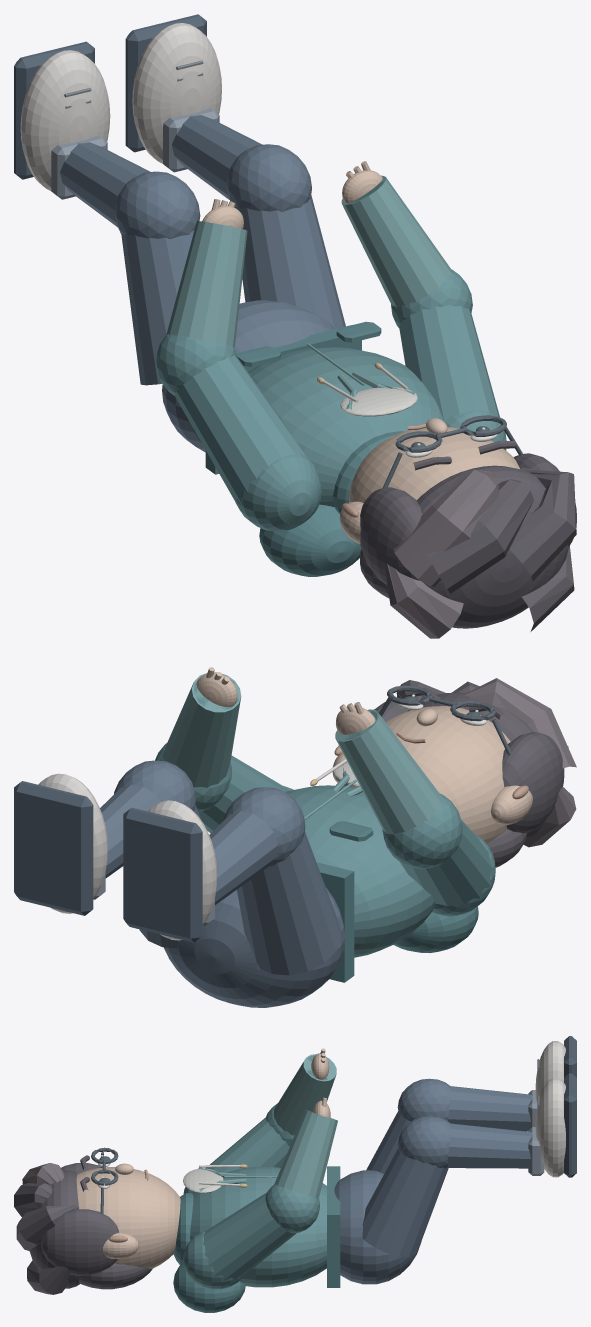
File: developer_working_0.glb
3 renders of one model, top to bottom at view 1: azimuth 30°, elevation 25°; view 2: azimuth 150°, elevation 25°; view 3: azimuth 270°, elevation 25°, orthographic. The views are drawn at different scales.
Visible parts, largest first — view 1: 0000__hoodie_main_torso, 0057__sleeve_upper, 0065__jeans_thigh, 0050__sneaker, 0069__sneaker, 0076__sleeve_upper, 0078__sleeve_forearm, 0059__sleeve_forearm, 0022__hair_crown, 0046__jeans_thigh, 0017__face_head, 0026__hair_lock_0 (+22 smaller); view 2: 0000__hoodie_main_torso, 0046__jeans_thigh, 0051__rubber_sole, 0070__rubber_sole, 0014__pants_pelvis, 0017__face_head, 0059__sleeve_forearm, 0078__sleeve_forearm, 0024__temple_side, 0048__jeans_shin, 0057__sleeve_upper, 0058__elbow_fold (+20 smaller); view 3: 0000__hoodie_main_torso, 0017__face_head, 0065__jeans_thigh, 0014__pants_pelvis, 0076__sleeve_upper, 0025__temple_side, 0067__jeans_shin, 0078__sleeve_forearm, 0048__jeans_shin, 0069__sneaker, 0059__sleeve_forearm, 0057__sleeve_upper (+21 smaller).
Boxes of the visible parts, left/top/right/bottom form: 0000__hoodie_main_torso: left=248, top=347, right=443, bottom=507; 0057__sleeve_upper: left=174, top=355, right=304, bottom=505; 0065__jeans_thigh: left=234, top=195, right=345, bottom=328; 0050__sneaker: left=20, top=50, right=110, bottom=190; 0069__sneaker: left=132, top=23, right=221, bottom=163; 0076__sleeve_upper: left=399, top=304, right=499, bottom=421; 0078__sleeve_forearm: left=341, top=175, right=451, bottom=307; 0059__sleeve_forearm: left=166, top=221, right=247, bottom=347; 0022__hair_crown: left=417, top=465, right=568, bottom=628; 0046__jeans_thigh: left=121, top=230, right=194, bottom=385; 0017__face_head: left=349, top=427, right=519, bottom=502; 0026__hair_lock_0: left=393, top=469, right=499, bottom=586; 0000__hoodie_main_torso: left=285, top=785, right=435, bottom=957; 0046__jeans_thigh: left=237, top=832, right=341, bottom=975; 0051__rubber_sole: left=123, top=807, right=202, bottom=942; 0070__rubber_sole: left=14, top=781, right=93, bottom=915; 0014__pants_pelvis: left=164, top=888, right=344, bottom=1007; 0017__face_head: left=345, top=706, right=510, bottom=843; 0059__sleeve_forearm: left=335, top=709, right=441, bottom=834; 0078__sleeve_forearm: left=162, top=672, right=241, bottom=787; 0024__temple_side: left=502, top=732, right=564, bottom=833; 0048__jeans_shin: left=209, top=811, right=278, bottom=904; 0057__sleeve_upper: left=400, top=819, right=493, bottom=906; 0058__elbow_fold: left=382, top=793, right=462, bottom=868; 0000__hoodie_main_torso: left=190, top=1166, right=326, bottom=1287; 0017__face_head: left=76, top=1167, right=180, bottom=1268; 0065__jeans_thigh: left=362, top=1148, right=448, bottom=1257; 0014__pants_pelvis: left=334, top=1170, right=421, bottom=1284; 0076__sleeve_upper: left=203, top=1192, right=296, bottom=1280; 0025__temple_side: left=41, top=1209, right=119, bottom=1275; 0067__jeans_shin: left=447, top=1123, right=532, bottom=1168; 0078__sleeve_forearm: left=274, top=1110, right=337, bottom=1198; 0048__jeans_shin: left=447, top=1086, right=532, bottom=1131; 0069__sneaker: left=535, top=1078, right=565, bottom=1177; 0059__sleeve_forearm: left=274, top=1054, right=336, bottom=1135; 0057__sleeve_upper: left=205, top=1118, right=289, bottom=1172.
Size of the model in its own units: 0.794 by 0.8228 by 1.85.
